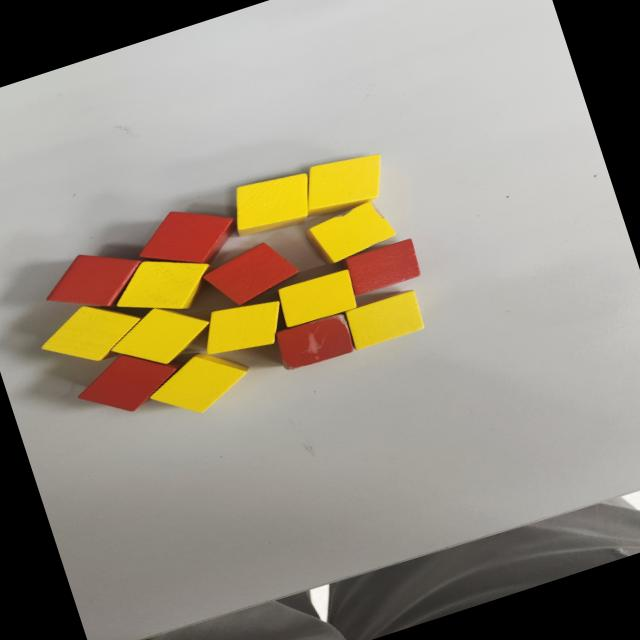broken: (300, 196, 400, 270), (272, 308, 358, 372)
red: (130, 193, 247, 285), (38, 238, 154, 328), (70, 338, 188, 426), (200, 235, 302, 311), (343, 235, 425, 297)
yellow: (106, 241, 219, 330), (103, 294, 217, 381), (34, 291, 148, 375), (146, 340, 256, 426), (290, 145, 394, 223), (225, 166, 323, 240), (194, 291, 291, 363), (272, 266, 362, 330), (341, 288, 428, 353)
